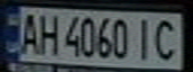0: (112, 15, 133, 61), (78, 14, 96, 58)
4: (60, 12, 81, 57)
6: (93, 13, 115, 60)
A: (15, 9, 42, 55)
C: (148, 16, 184, 62)
H: (36, 10, 60, 56)
I: (133, 15, 157, 62)
